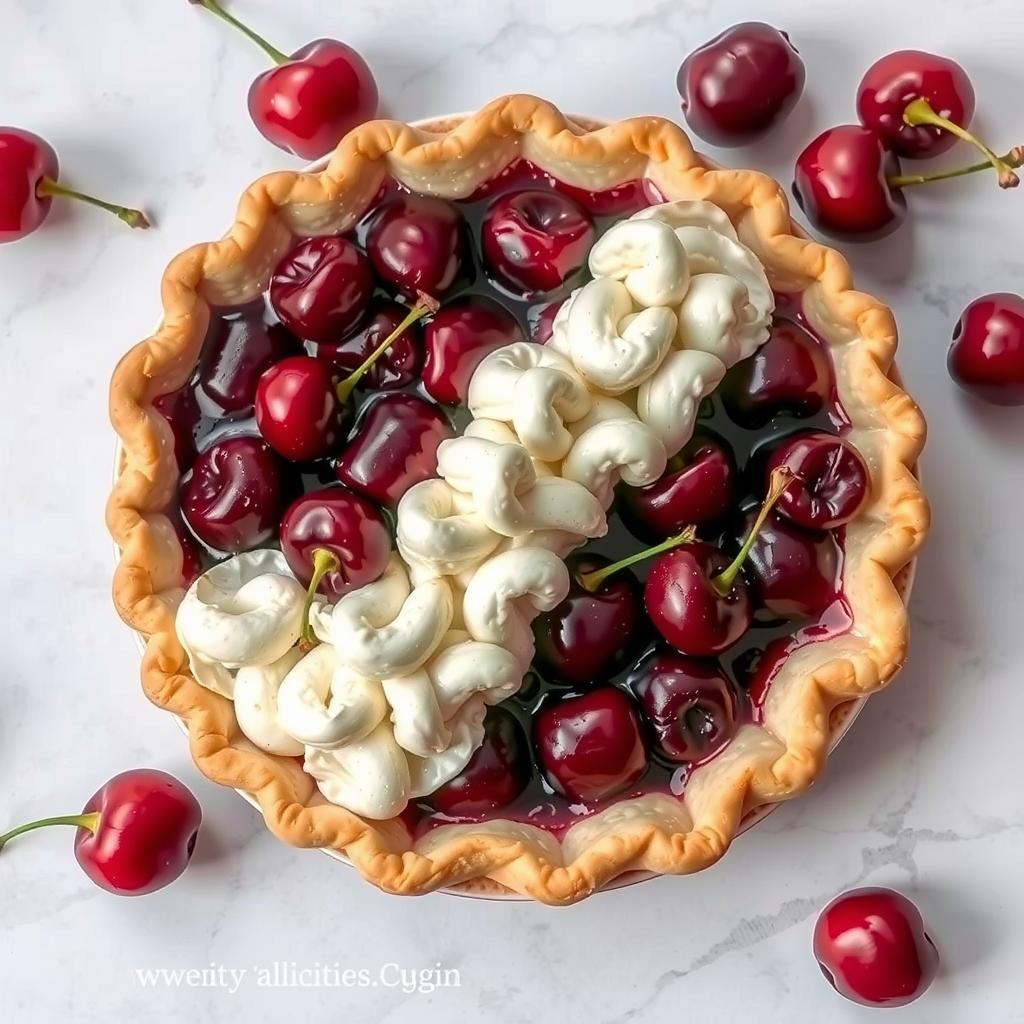pie: (94, 94, 943, 911)
